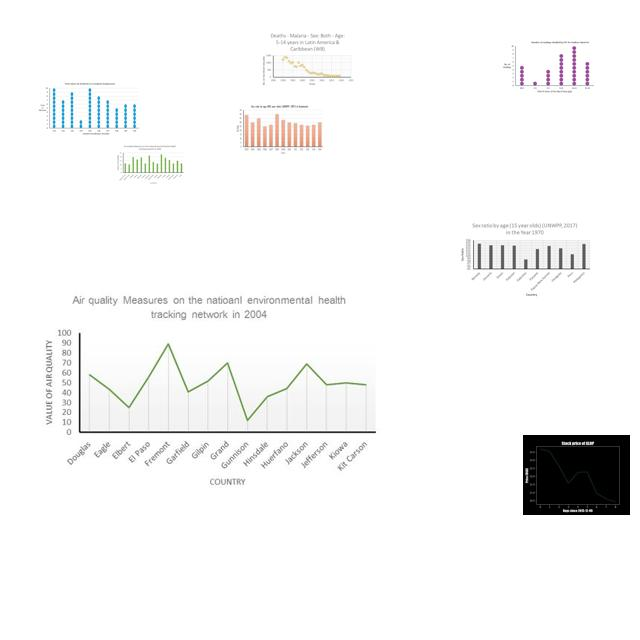Graph: (37, 286, 384, 492), (457, 220, 592, 298), (523, 435, 630, 515), (38, 81, 140, 136), (500, 39, 596, 95), (260, 31, 355, 87), (235, 104, 324, 155), (115, 144, 185, 186)
